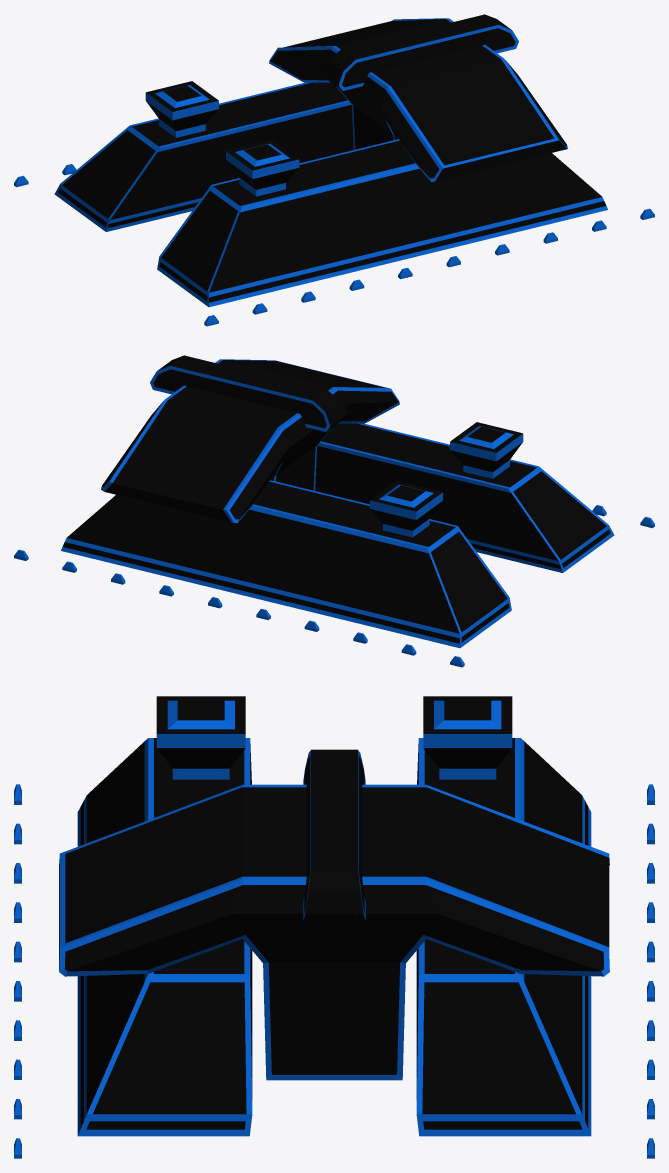
3 renders of one model, top to bottom at view 1: azimuth 30°, elevation 25°; view 2: azimuth 150°, elevation 25°; view 3: azimuth 270°, elevation 25°, orthographic. The views are drawn at different scales.
Visible parts, largest first — view 1: Cube.001; view 2: Cube.001; view 3: Cube.001.
Part boxes in pixels (x1,y1,x2,y2): Cube.001: (14, 14, 654, 326); Cube.001: (14, 355, 654, 667); Cube.001: (14, 696, 654, 1158).
Size of the model in its own units: 7400 by 2262 by 5511.
